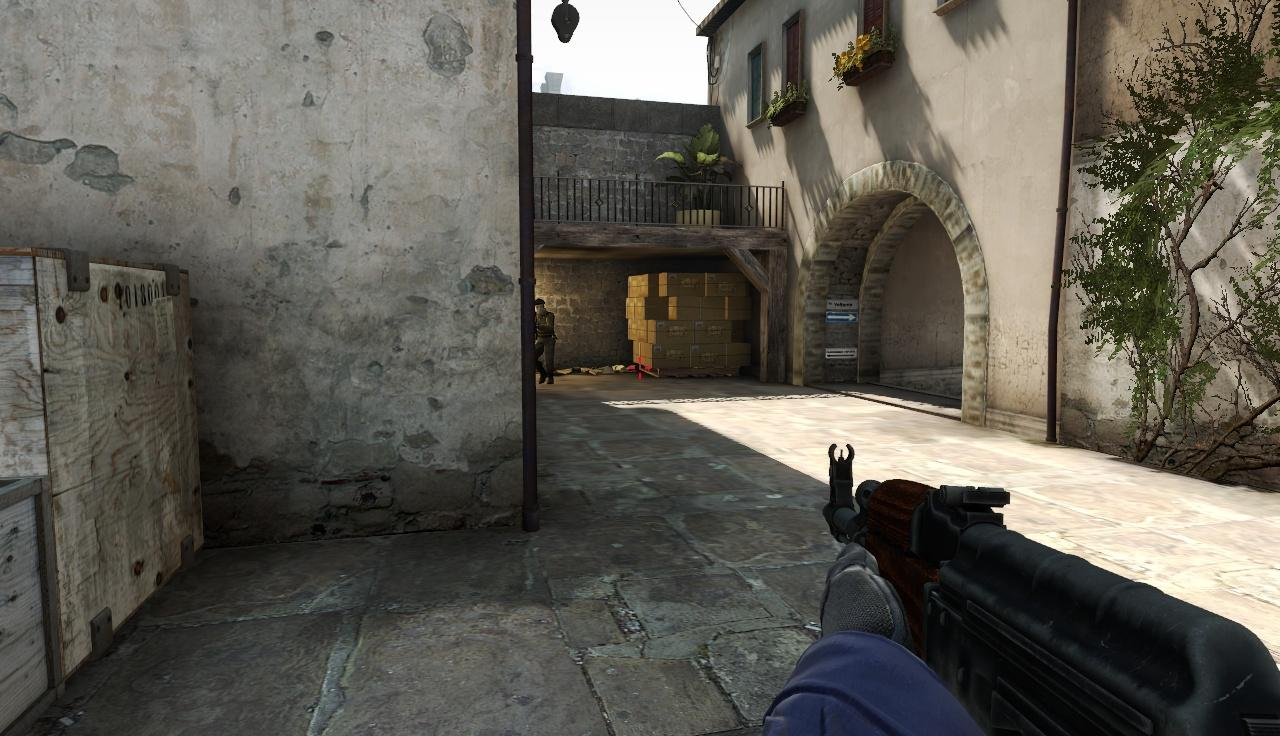rifle: (820, 441, 1280, 736)
tt: (534, 298, 556, 384)
tthead: (536, 298, 545, 315)
